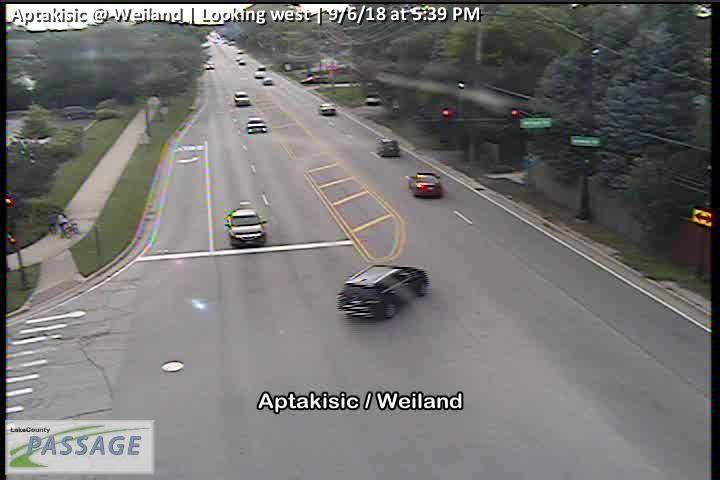Motorbike: (57, 211, 79, 237), (47, 211, 58, 234)
SUV: (338, 263, 428, 321)
Sedan: (227, 209, 265, 245), (407, 172, 441, 197), (377, 139, 400, 157), (247, 117, 267, 133), (233, 92, 249, 105), (319, 104, 336, 115), (365, 93, 380, 104), (255, 70, 265, 78), (207, 63, 215, 70), (263, 77, 272, 83), (239, 60, 245, 65)
